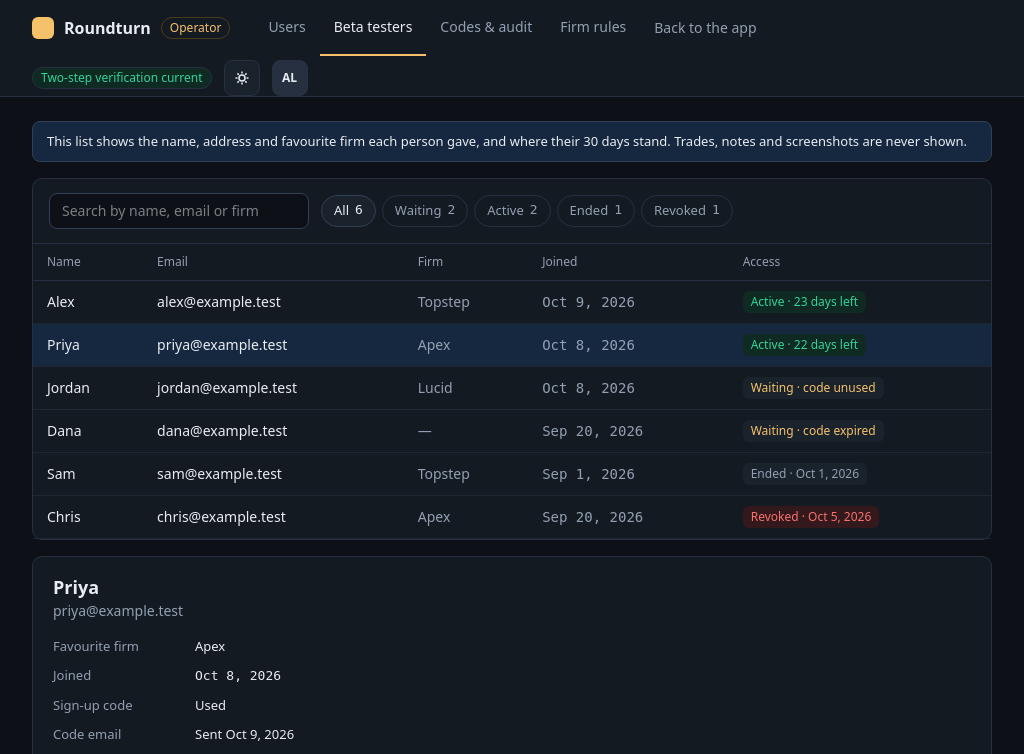
the list › closes the open person when the list changes, since they may no longer be in it
This screenshot has width=1024, height=754.
Expected: the heading "Priya" is shown, [53,575,99,599]
Click the button "Waiting 2". click: (425, 211)
box: [382,195,468,227]
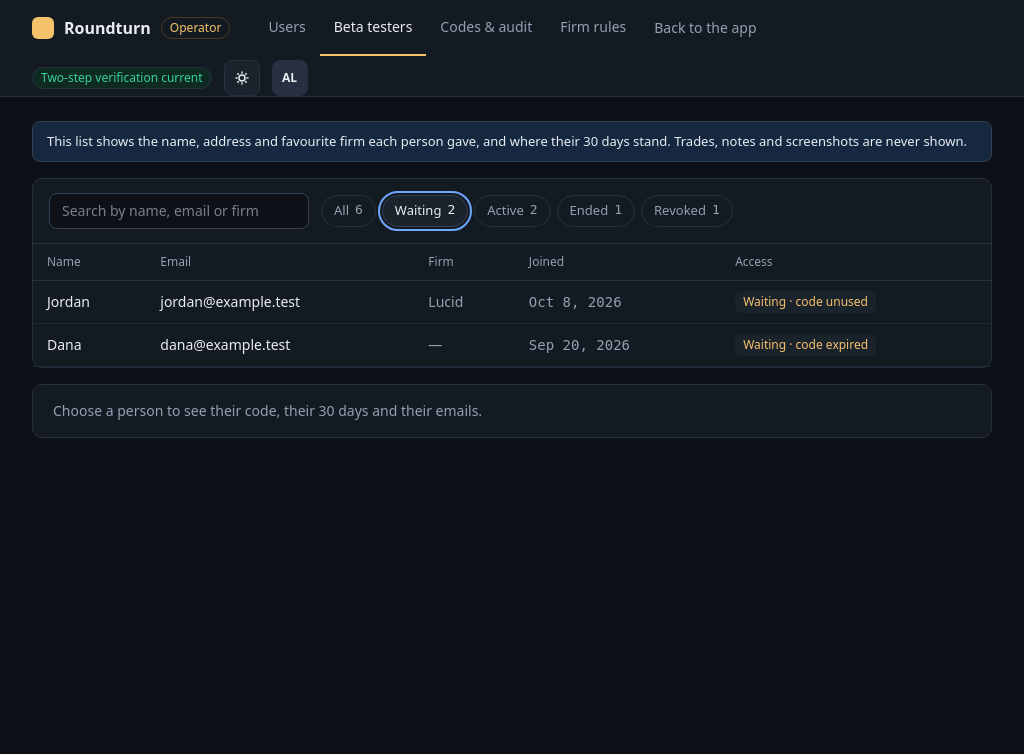
Now the text "Choose a person" is shown, box [53,401,482,420]
